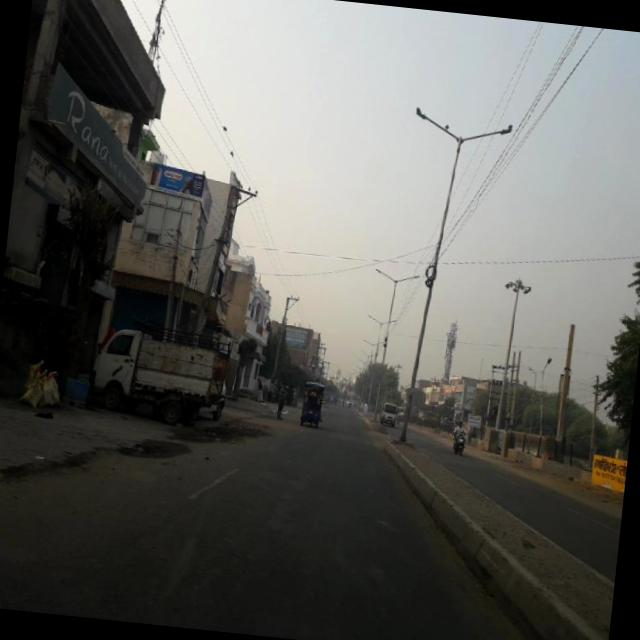pothole: (107, 424, 206, 476)
